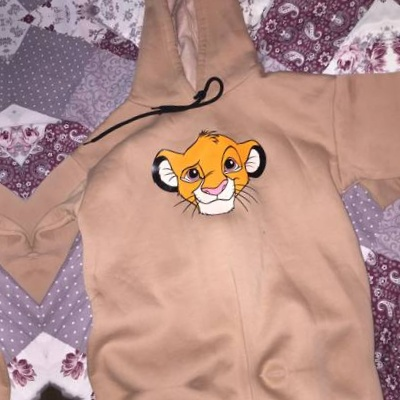Hoodie: (4, 0, 400, 400), (0, 25, 51, 400), (53, 356, 400, 400), (0, 0, 374, 19), (387, 0, 400, 353), (0, 0, 0, 68)
